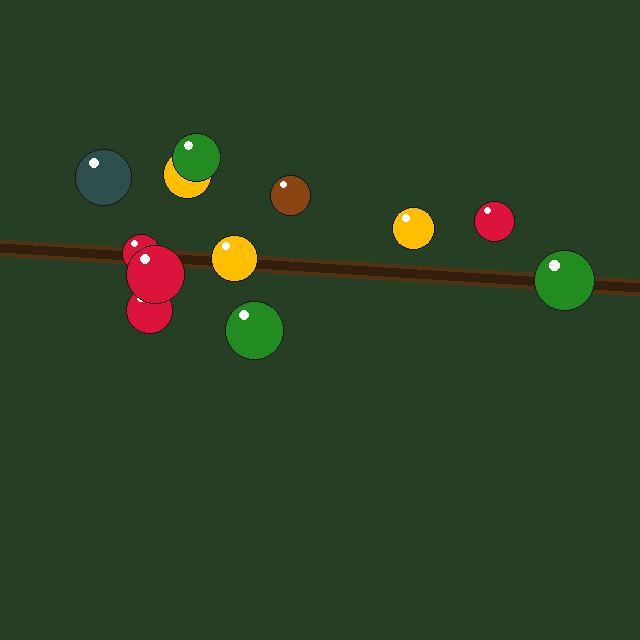Dry_Damaged: (75, 149, 131, 205)
Overripe: (270, 175, 310, 215)
Ripe: (126, 245, 184, 303), (126, 287, 172, 333), (474, 201, 514, 241), (122, 234, 160, 272)
Ripening: (163, 150, 211, 198), (211, 235, 257, 281), (392, 207, 434, 249)
Unripe: (534, 250, 594, 310), (225, 301, 283, 359), (172, 133, 220, 181)
